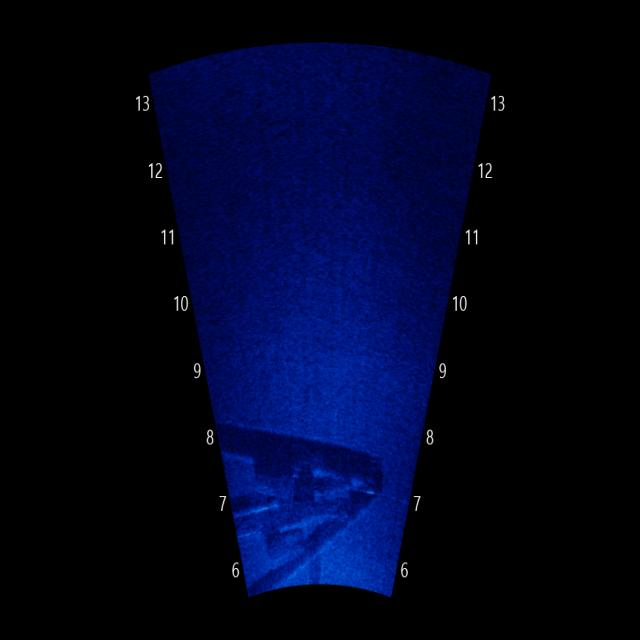triangle: (220, 409, 391, 594)
